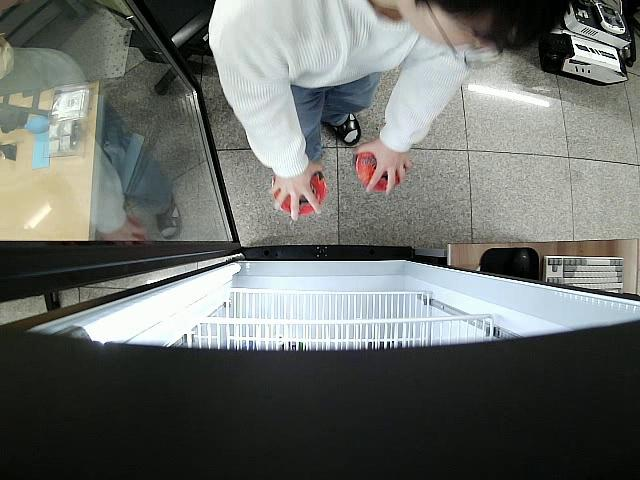00_hand: (266, 160, 324, 220), (354, 139, 415, 195)
01_shinRamen_L: (270, 174, 326, 216), (356, 151, 406, 193)
